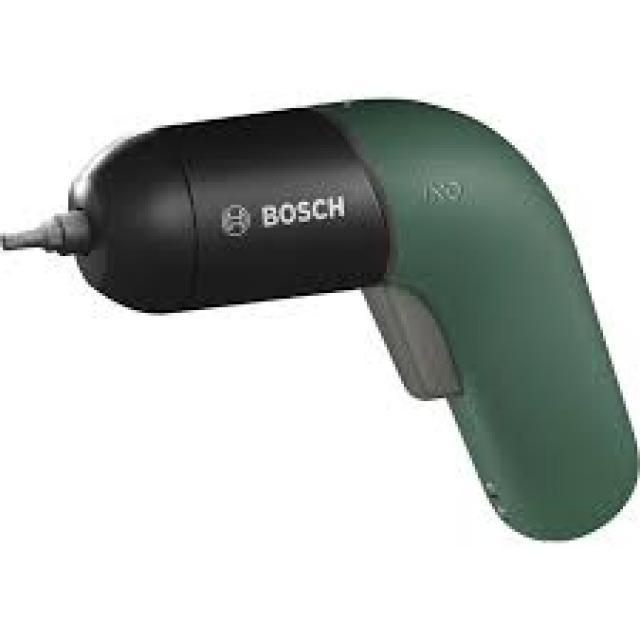drill: (8, 68, 640, 554)
